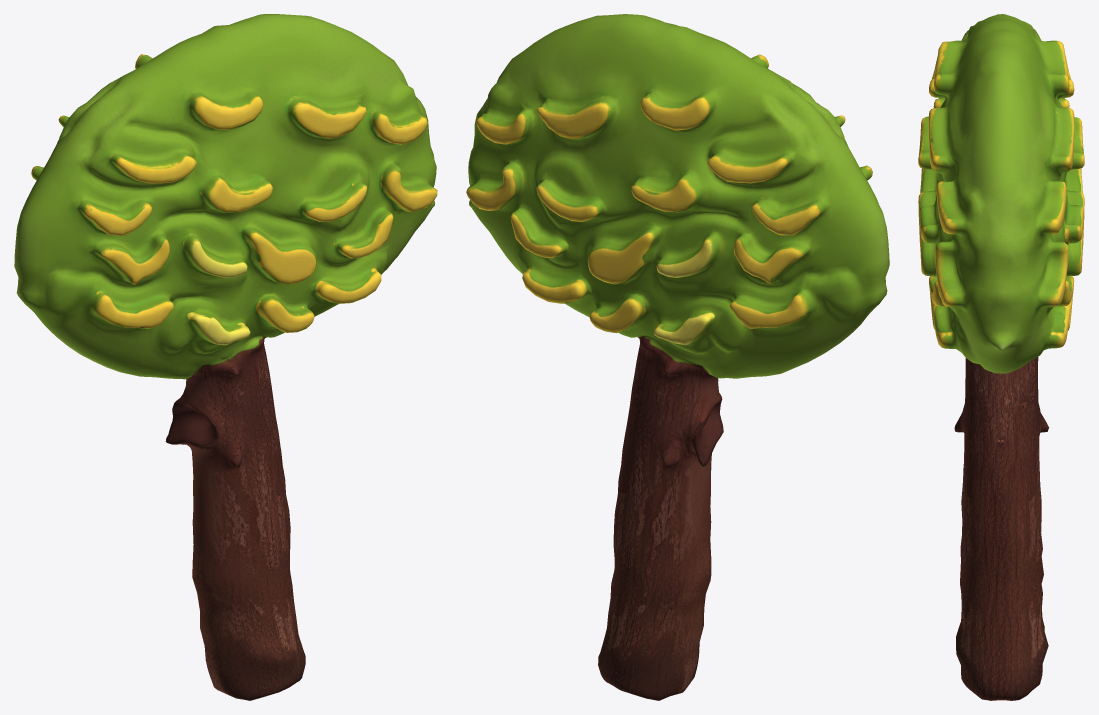
File: cartoon-tree-a.glb
3 views of the same model, side by side, from view 1: azimuth 30°, elevation 25°; view 2: azimuth 150°, elevation 25°; view 3: azimuth 270°, elevation 25° (orthographic). The views are drawn at different scales.
Parts seen in each view (by area): view 1: tripo_node_57a7ce0f-9126-4196-90fc-e857775bcdb3; view 2: tripo_node_57a7ce0f-9126-4196-90fc-e857775bcdb3; view 3: tripo_node_57a7ce0f-9126-4196-90fc-e857775bcdb3.
Boxes of the visible parts, x1,y1,x2,y2 form: tripo_node_57a7ce0f-9126-4196-90fc-e857775bcdb3: (14,14,437,700); tripo_node_57a7ce0f-9126-4196-90fc-e857775bcdb3: (466,14,889,700); tripo_node_57a7ce0f-9126-4196-90fc-e857775bcdb3: (918,14,1084,700).
Bounding box in the file's own units: 0.6404 × 0.9781 × 0.2299.
Materials: 1 (1 with a texture image).
